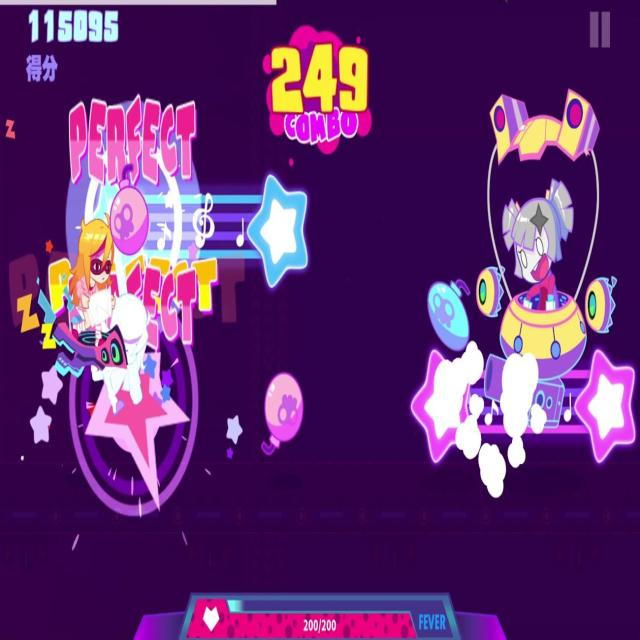hold: (408, 345, 638, 467), (88, 168, 315, 286)
qiangboss: (479, 86, 622, 376)
tang: (259, 369, 306, 457), (426, 270, 475, 354), (112, 160, 152, 255)
